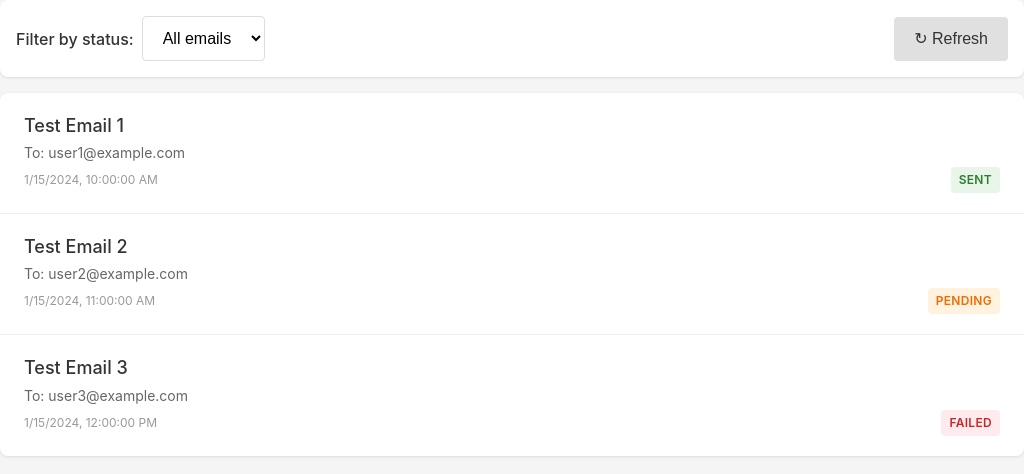
Test: EmailListView › Filtering › should filter emails by status
Expected: the text "Test Email 1" is shown, [24,115,124,136]
Expected: the text "Test Email 2" is shown, [24,236,128,257]
Note: Filter by sent status
Step 1. Select "Sent" in the dropdown labelled "Filter by status:" → (203, 38), box [142,16,265,61]
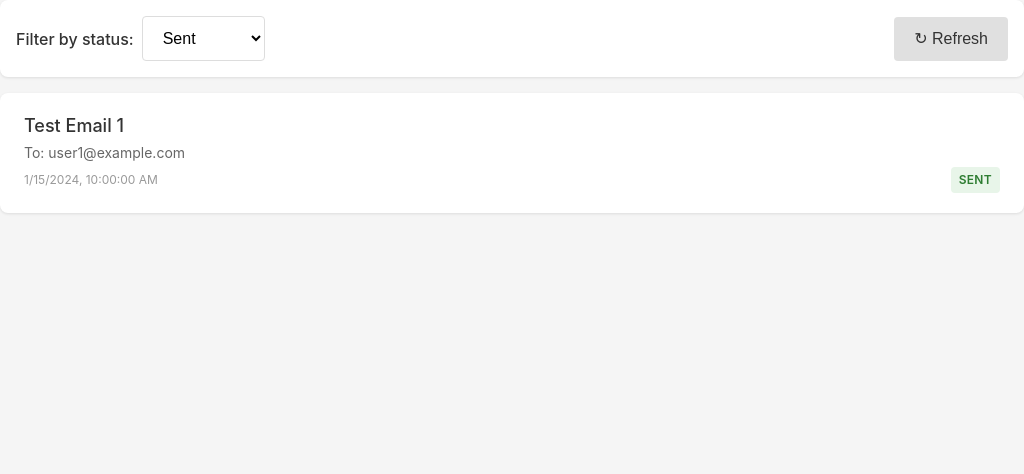
Expected: the text "Test Email 1" is shown, [24,115,124,136]
Now the text "Test Email 2" is gone
